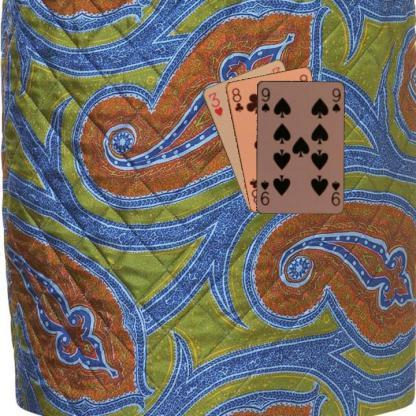3h: (206, 90, 224, 118)
8c: (228, 84, 245, 113)
9s: (259, 84, 271, 113), (329, 178, 341, 207)
